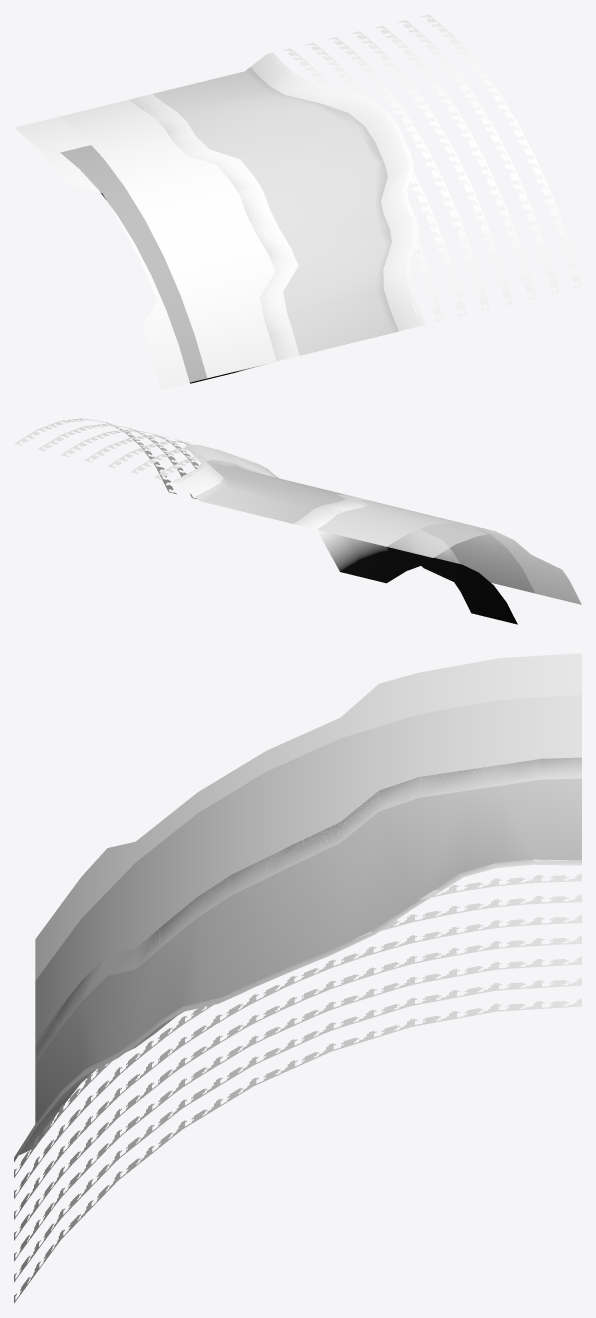
Rendered from grd_Iw_0.dae.
3 views of the same model, one above another, from view 1: azimuth 30°, elevation 25°; view 2: azimuth 150°, elevation 25°; view 3: azimuth 270°, elevation 25° (orthographic). The views are drawn at different scales.
Parts seen in each view (by area): view 1: beach_0_0, ocean_4_0, wave_5_0, beach_1_0, grass_3_0, beach_cliff_2_0; view 2: beach_1_0, ocean_4_0, wave_5_0, beach_0_0, grass_3_0, beach_cliff_2_0; view 3: beach_0_0, ocean_4_0, wave_5_0, grass_3_0, beach_1_0, beach_cliff_2_0.
Boxes of the visible parts, box(x1,y1,x2,y2) form: beach_0_0: box(153, 67, 398, 355); ocean_4_0: box(60, 99, 298, 378); wave_5_0: box(14, 101, 293, 389); beach_1_0: box(61, 94, 299, 383); grass_3_0: box(268, 14, 581, 323); beach_cliff_2_0: box(250, 52, 426, 331); beach_1_0: box(294, 494, 517, 624); ocean_4_0: box(310, 494, 535, 593); wave_5_0: box(317, 503, 581, 604); beach_0_0: box(195, 459, 345, 523); grass_3_0: box(14, 418, 202, 498); beach_cliff_2_0: box(172, 444, 278, 496); beach_0_0: box(35, 778, 581, 1123); ocean_4_0: box(35, 695, 581, 1057); wave_5_0: box(35, 653, 581, 1055); grass_3_0: box(14, 859, 581, 1303); beach_1_0: box(35, 757, 581, 1063); beach_cliff_2_0: box(14, 859, 581, 1162).
Size of the model in its own units: 576 by 244 by 368.
Materials: 6 (1 with a texture image).
